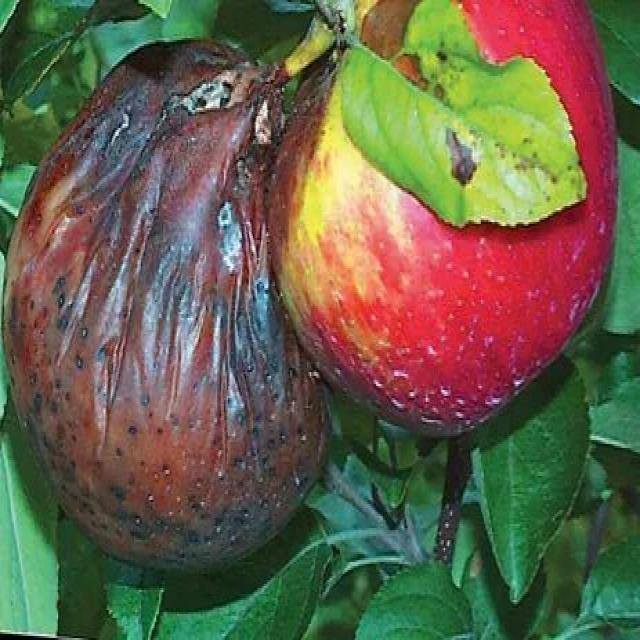Rotten: (243, 5, 640, 448), (37, 45, 328, 600)
